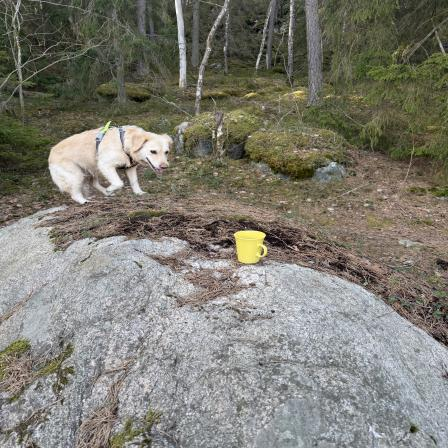yellow_cup: (232, 229, 273, 267)
